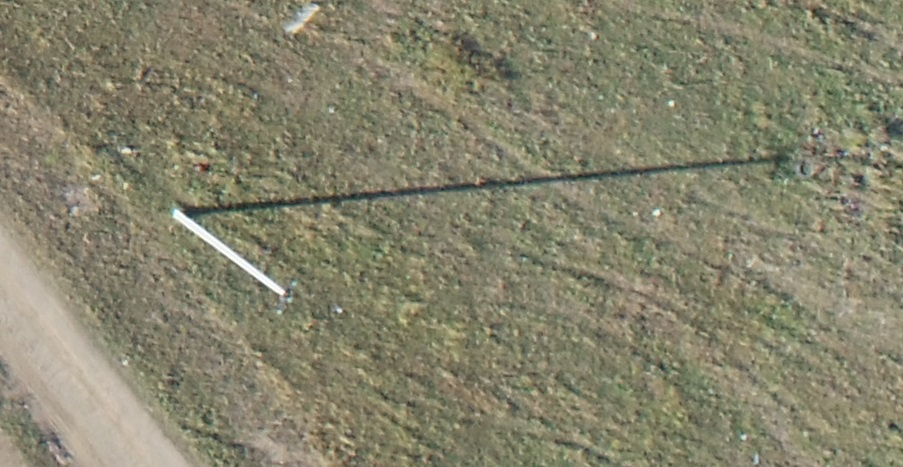opora: (172, 191, 304, 317)
